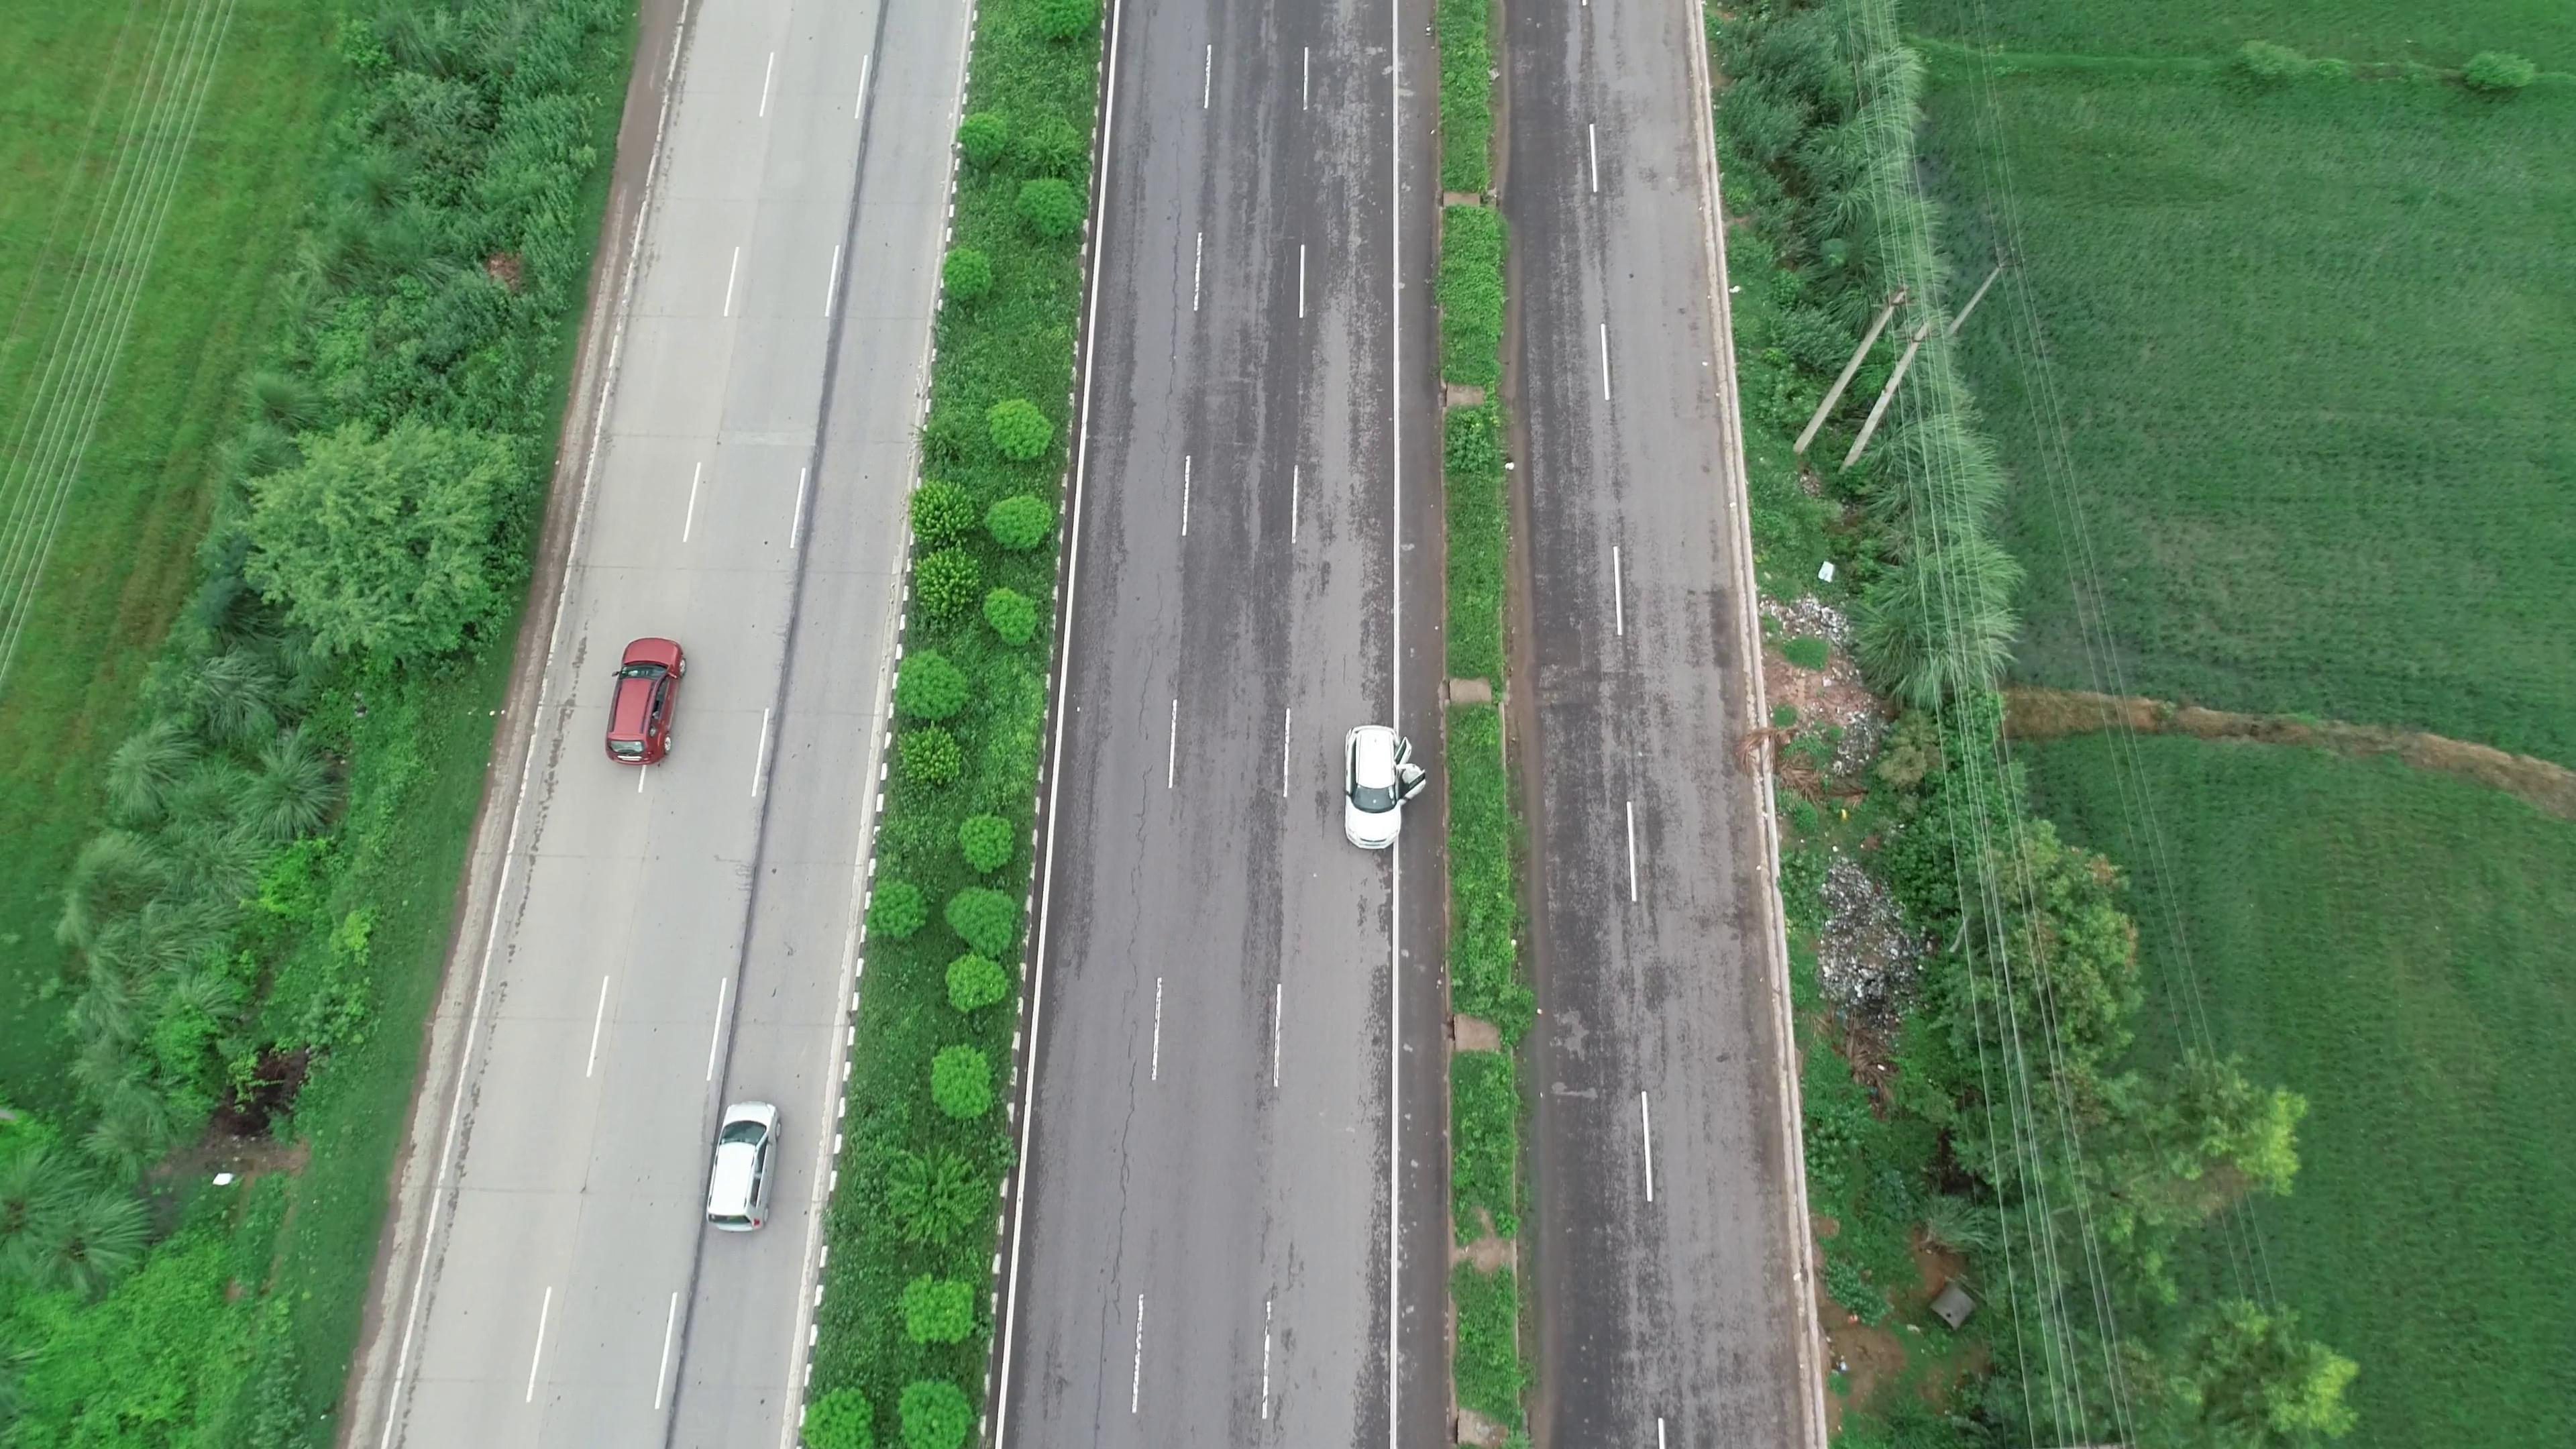Longitudinal_cracks: (1076, 725, 1162, 1437), (1129, 88, 1205, 485)
